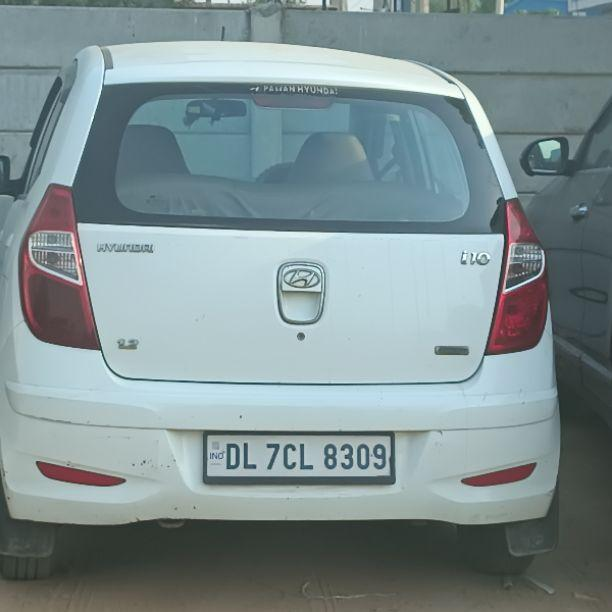license_plate: (201, 430, 396, 485)
